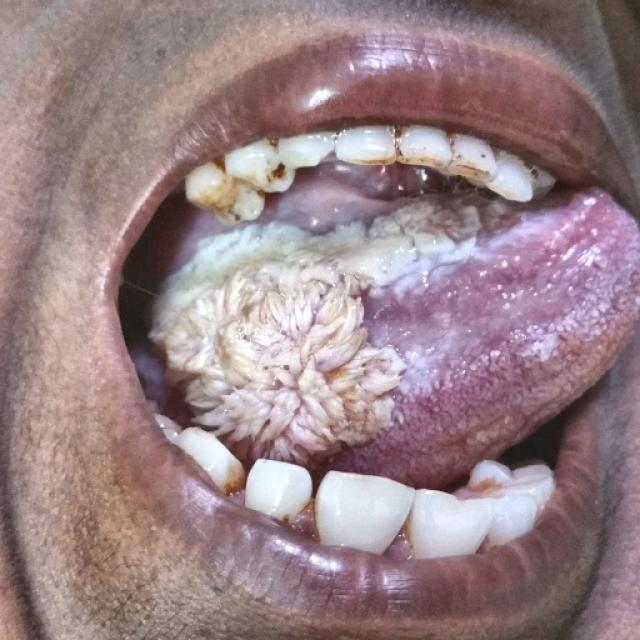cancer-detection: (154, 179, 520, 490)
processing_area: (145, 171, 635, 484)
